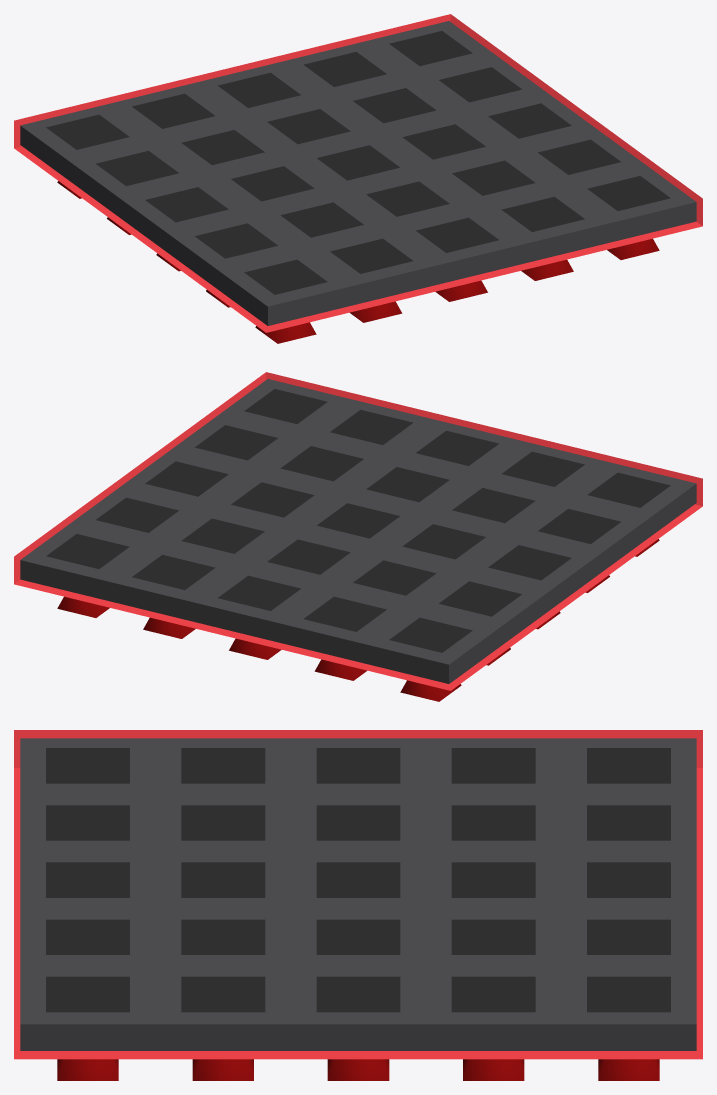
The model's file is spikePlate.glb.
The picture shows the model from 3 angles, top to bottom: view 1: azimuth 30°, elevation 25°; view 2: azimuth 150°, elevation 25°; view 3: azimuth 270°, elevation 25°; orthographic projection. The views are drawn at different scales.
Visible parts, largest first — view 1: SpikePlate, SpikePlateSpikes; view 2: SpikePlate, SpikePlateSpikes; view 3: SpikePlate, SpikePlateSpikes.
Boxes of the visible parts, bbox=[...] form: SpikePlate: bbox=[14, 14, 702, 332]; SpikePlateSpikes: bbox=[57, 181, 659, 343]; SpikePlate: bbox=[14, 372, 702, 690]; SpikePlateSpikes: bbox=[57, 539, 659, 701]; SpikePlate: bbox=[14, 730, 702, 1059]; SpikePlateSpikes: bbox=[57, 1059, 659, 1080].
Size of the model in its own units: 6 by 0.7482 by 6.
Materials: 2 (2 with a texture image).
